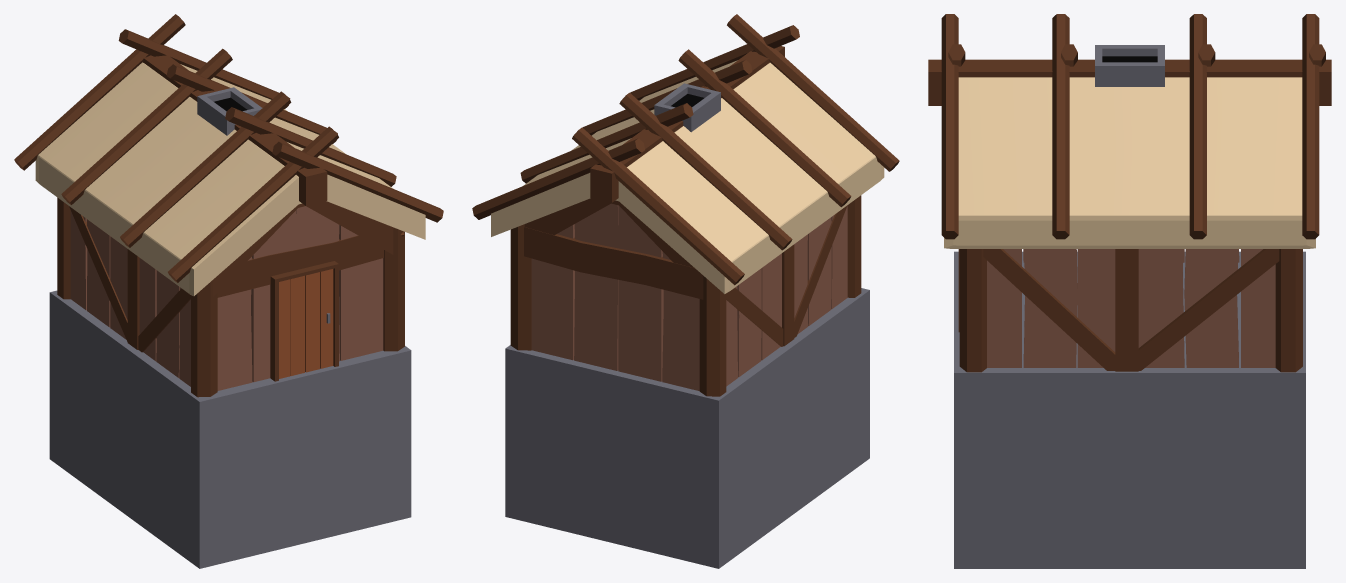
Rendered from HouseBroken#2.fbx.
3 views of the same model, side by side, from view 1: azimuth 30°, elevation 25°; view 2: azimuth 150°, elevation 25°; view 3: azimuth 270°, elevation 25° (orthographic). The views are drawn at different scales.
Parts seen in each view (by area): view 1: HouseBroken#2.037, HouseBroken#2.024, HouseBroken#2.027, HouseBroken#2.022, HouseBroken#2.028, HouseBroken#2.048, HouseBroken#2.049, HouseBroken#2.051, HouseBroken#2.050, HouseBroken#2.003, HouseBroken#2.026, HouseBroken#2.023 (+23 smaller); view 2: HouseBroken#2.037, HouseBroken#2.024, HouseBroken#2.029, HouseBroken#2.018, HouseBroken#2.019, HouseBroken#2.020, HouseBroken#2.021, HouseBroken#2.048, HouseBroken#2.051, HouseBroken#2.050, HouseBroken#2.049, HouseBroken#2.004 (+18 smaller); view 3: HouseBroken#2.037, HouseBroken#2.024, HouseBroken#2.005, HouseBroken#2.015, HouseBroken#2.009, HouseBroken#2.012, HouseBroken#2.046, HouseBroken#2.047, HouseBroken#2.044, HouseBroken#2.045, HouseBroken#2.011, HouseBroken#2.041 (+7 smaller).
Boxes of the visible parts, box(x1,y1,x2,y2) form: HouseBroken#2.037: box(49, 290, 411, 568); HouseBroken#2.024: box(35, 62, 425, 296); HouseBroken#2.027: box(339, 225, 383, 360); HouseBroken#2.022: box(217, 235, 383, 297); HouseBroken#2.028: box(217, 257, 252, 390); HouseBroken#2.048: box(14, 14, 185, 170); HouseBroken#2.049: box(168, 126, 338, 282); HouseBroken#2.051: box(61, 48, 232, 204); HouseBroken#2.050: box(120, 91, 291, 247); HouseBroken#2.003: box(191, 280, 217, 397); HouseBroken#2.026: box(251, 210, 296, 382); HouseBroken#2.023: box(213, 201, 393, 296); HouseBroken#2.037: box(505, 288, 869, 568); HouseBroken#2.024: box(491, 60, 884, 293); HouseBroken#2.029: box(524, 227, 703, 299); HouseBroken#2.018: box(574, 203, 618, 370); HouseBroken#2.019: box(618, 205, 663, 381); HouseBroken#2.020: box(531, 224, 574, 360); HouseBroken#2.021: box(662, 252, 699, 390); HouseBroken#2.048: box(572, 127, 744, 285); HouseBroken#2.051: box(619, 92, 792, 250); HouseBroken#2.050: box(678, 49, 851, 207); HouseBroken#2.049: box(727, 14, 899, 171); HouseBroken#2.004: box(699, 276, 726, 396); HouseBroken#2.037: box(954, 251, 1305, 568); HouseBroken#2.024: box(944, 77, 1315, 248); HouseBroken#2.005: box(928, 59, 1331, 105); HouseBroken#2.015: box(1184, 249, 1238, 367); HouseBroken#2.009: box(1023, 249, 1077, 367); HouseBroken#2.012: box(1138, 249, 1184, 367); HouseBroken#2.046: box(1189, 14, 1206, 239); HouseBroken#2.047: box(1052, 14, 1069, 239); HouseBroken#2.044: box(941, 14, 958, 239); HouseBroken#2.045: box(1302, 14, 1319, 239); HouseBroken#2.011: box(1077, 249, 1115, 367); HouseBroken#2.041: box(1113, 249, 1279, 370).
Bounding box in the file's own units: 1180 × 1706 × 1302.
